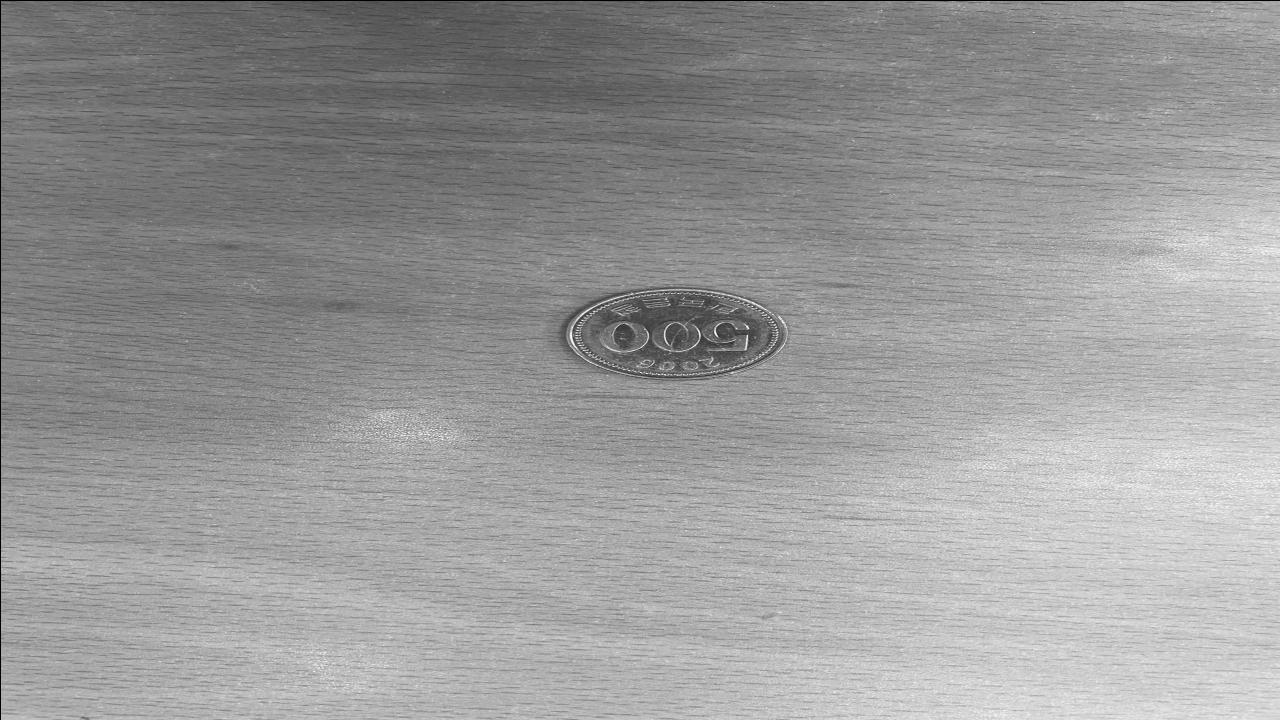coin: (564, 286, 789, 378)
